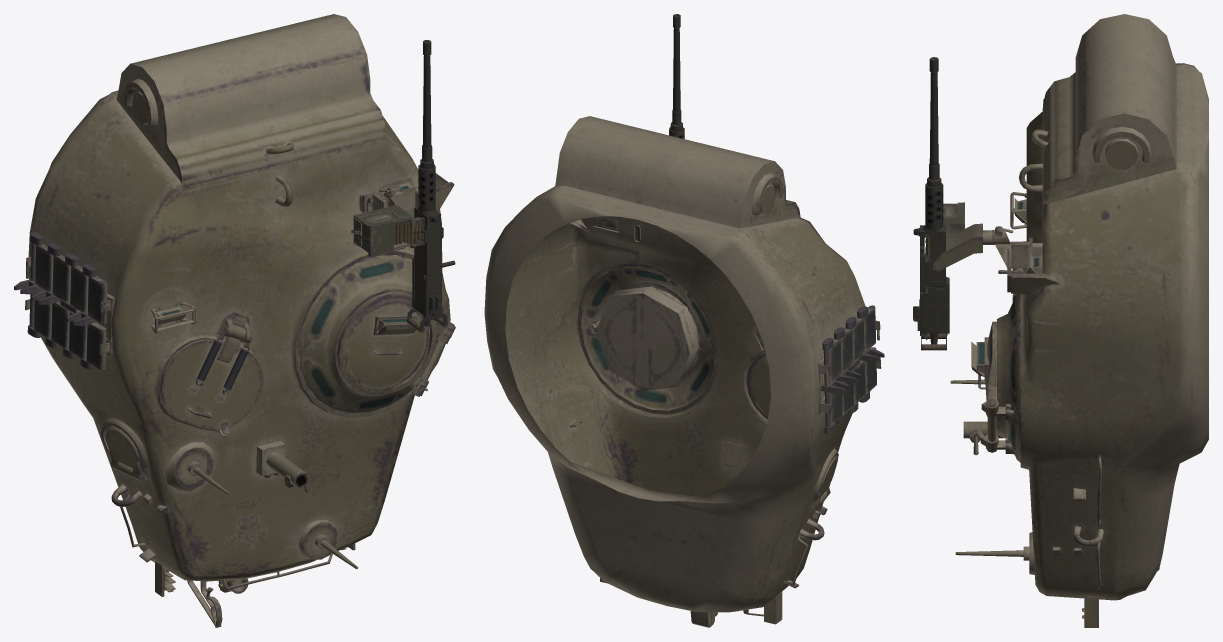
File: Turret_01.glb
The picture shows the model from 3 angles, left to right: view 1: azimuth 30°, elevation 25°; view 2: azimuth 150°, elevation 25°; view 3: azimuth 270°, elevation 25°; orthographic projection. The views are drawn at different scales.
Parts seen in each view (by area): view 1: set_0_group_0; view 2: set_0_group_0; view 3: set_0_group_0.
Boxes of the visible parts, <box> form: set_0_group_0: <box>14,14,455,627</box>; set_0_group_0: <box>484,14,884,627</box>; set_0_group_0: <box>913,14,1208,627</box>.
Bounding box in the file's own units: 2.35 × 3.4 × 1.54.
Materials: 1 (1 with a texture image).
